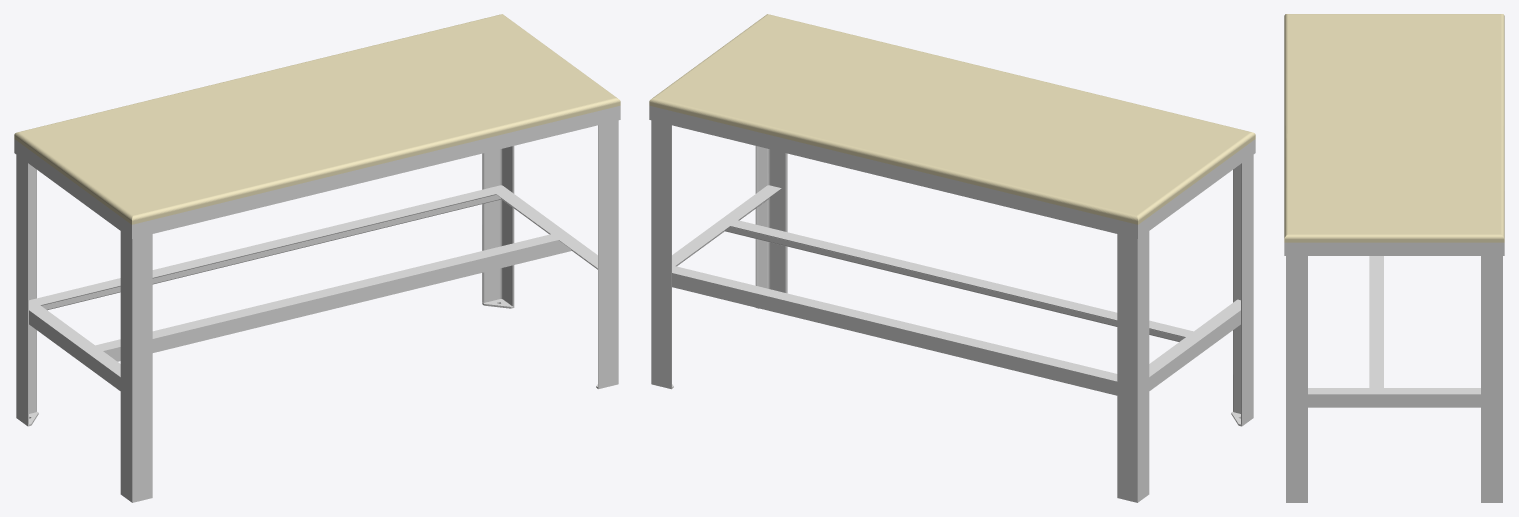
Rendered from bench.dae.
The picture shows the model from 3 angles, left to right: view 1: azimuth 30°, elevation 25°; view 2: azimuth 150°, elevation 25°; view 3: azimuth 270°, elevation 25°; orthographic projection. The views are drawn at different scales.
Visible parts, largest first — view 1: node1, node0; view 2: node1, node0; view 3: node1, node0.
Part boxes in pixels (x1,y1,x2,y2): node1: (14,14,620,224); node0: (14,105,620,502); node1: (649,14,1255,224); node0: (649,105,1255,502); node1: (1284,14,1504,242); node0: (1284,242,1504,502).
Size of the model in its own units: 1.83 by 0.762 by 1.02.
